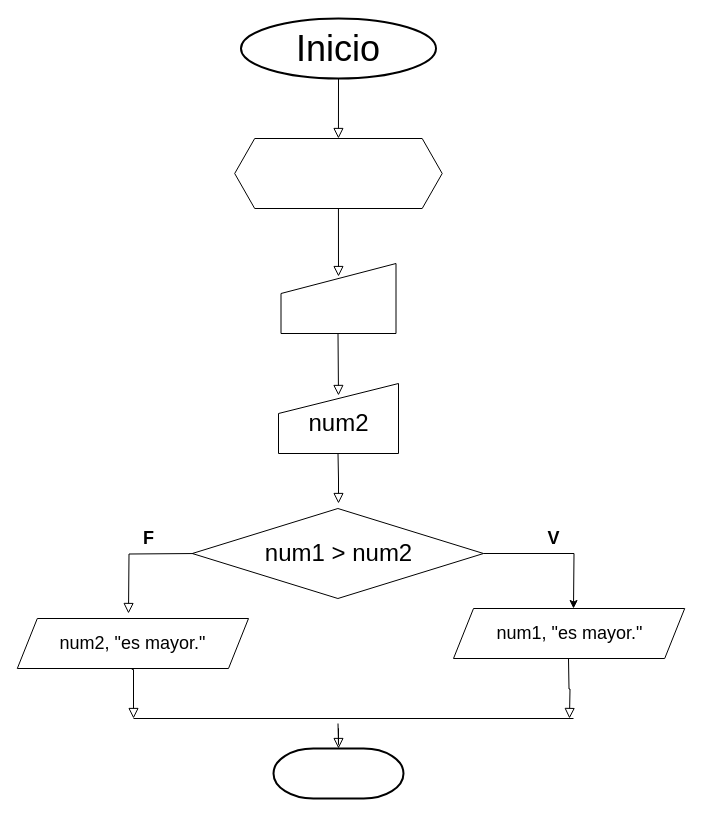
The diagram is 703 pixels wide and 820 high, and some of its shapes have lost their labels. Here are the shapes that lost their labels. From the top down, the centre of each, then its label:
pixel 338 173: num1 = 0, num2 = 0
pixel 338 298: num1
pixel 338 773: Fin
